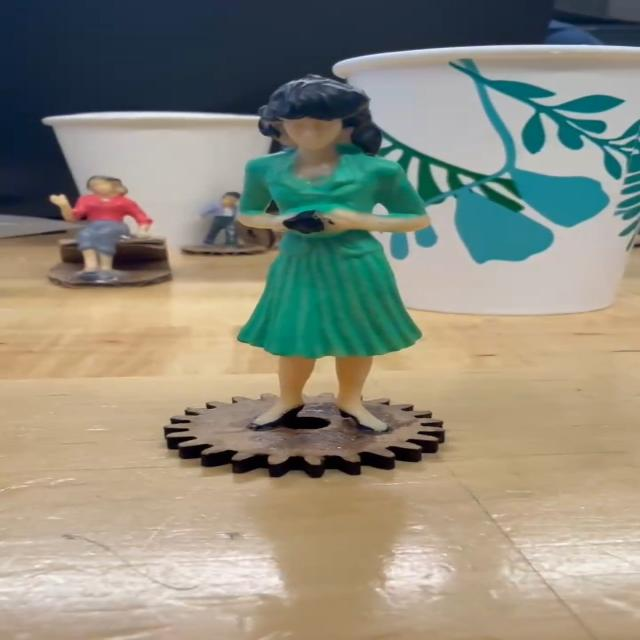Authorized: (214, 61, 426, 447)
